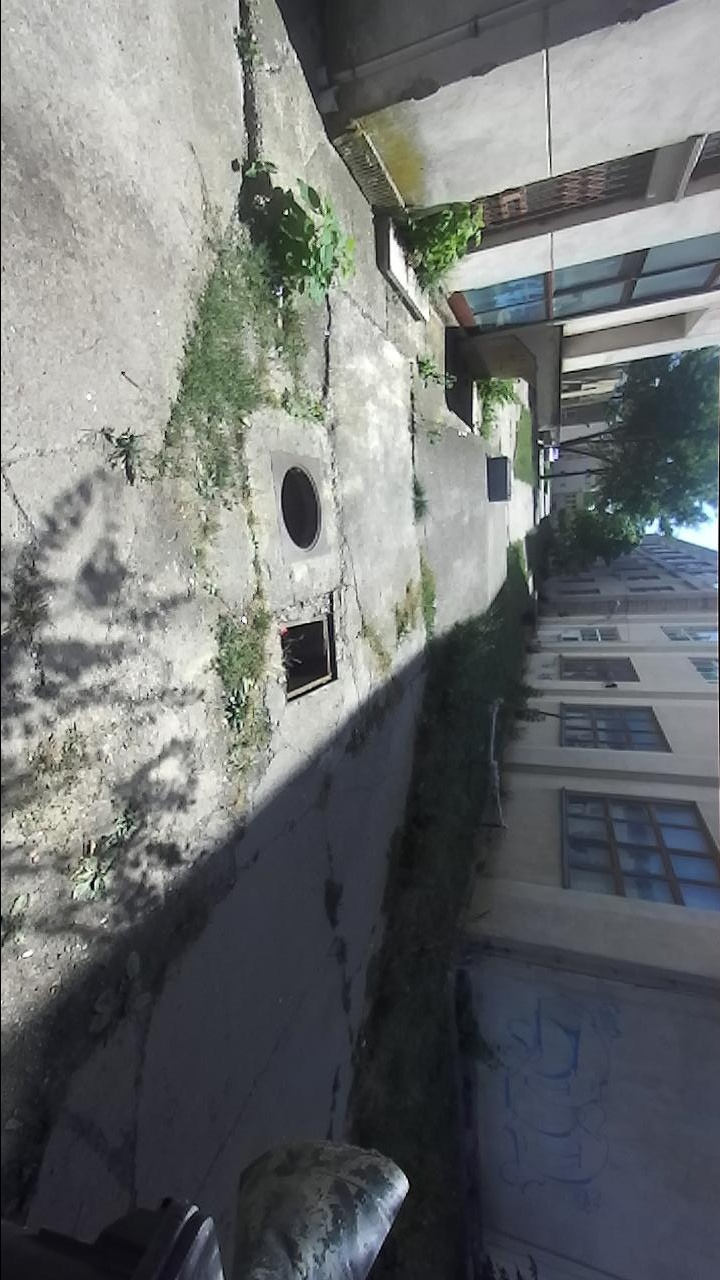drain: (277, 608, 343, 709), (282, 461, 326, 558)
